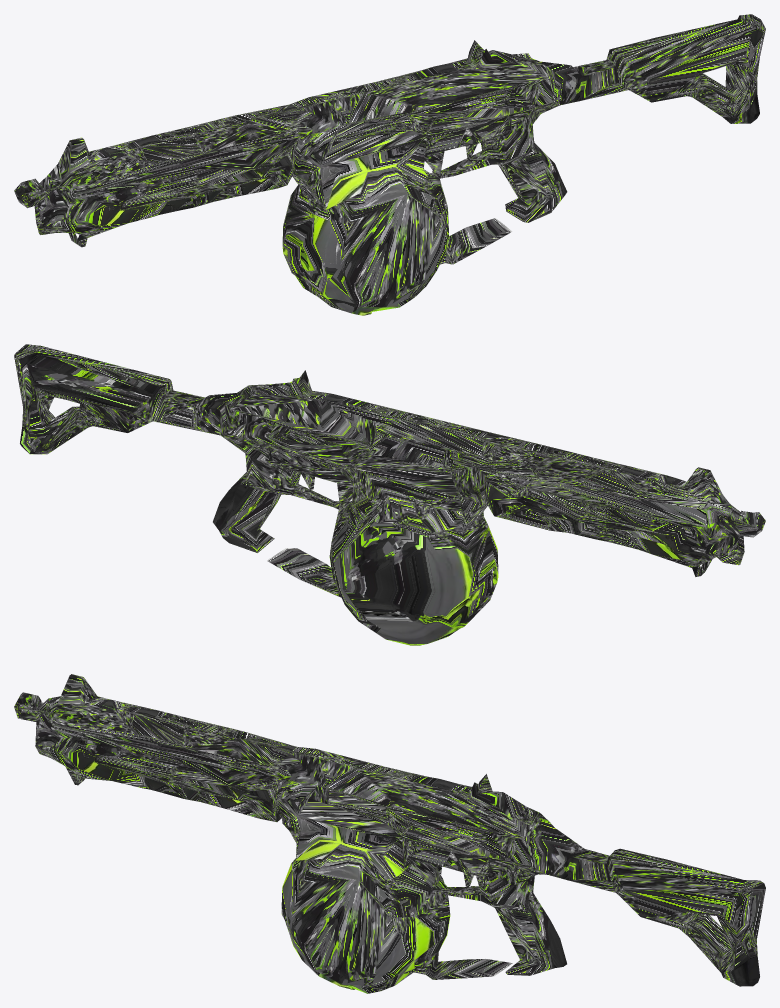
Rendered from gun_autosg_lo.glb.
3 views of the same model, one above another, from view 1: azimuth 30°, elevation 25°; view 2: azimuth 150°, elevation 25°; view 3: azimuth 330°, elevation 25° (orthographic).
Visible parts, largest first — view 1: Mesh_0; view 2: Mesh_0; view 3: Mesh_0.
Part boxes in pixels (x1,y1,x2,y2): Mesh_0: [14, 14, 765, 315]; Mesh_0: [14, 344, 765, 645]; Mesh_0: [14, 674, 765, 993].
Bounding box in the file's own units: 1.9 × 0.5823 × 0.2204.
1 material, 1 textured.
